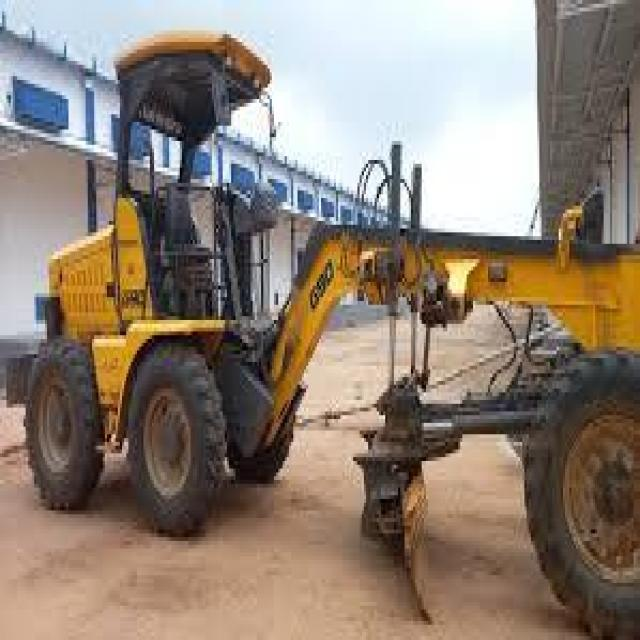Grader: (21, 11, 638, 606)
